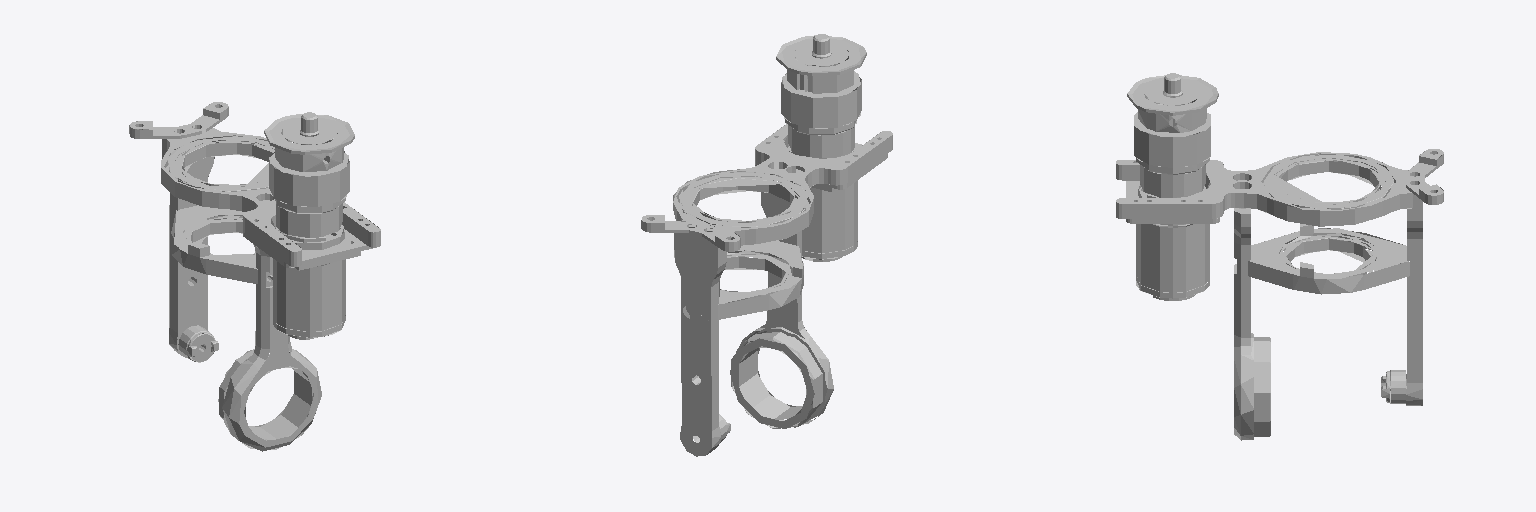
Rendered from neck_2_joint.obj.
3 views of the same model, side by side, from view 1: azimuth 30°, elevation 25°; view 2: azimuth 150°, elevation 25°; view 3: azimuth 270°, elevation 25° (orthographic).
Bounding box in the file's own units: 0.0417 × 0.1175 × 0.0971.